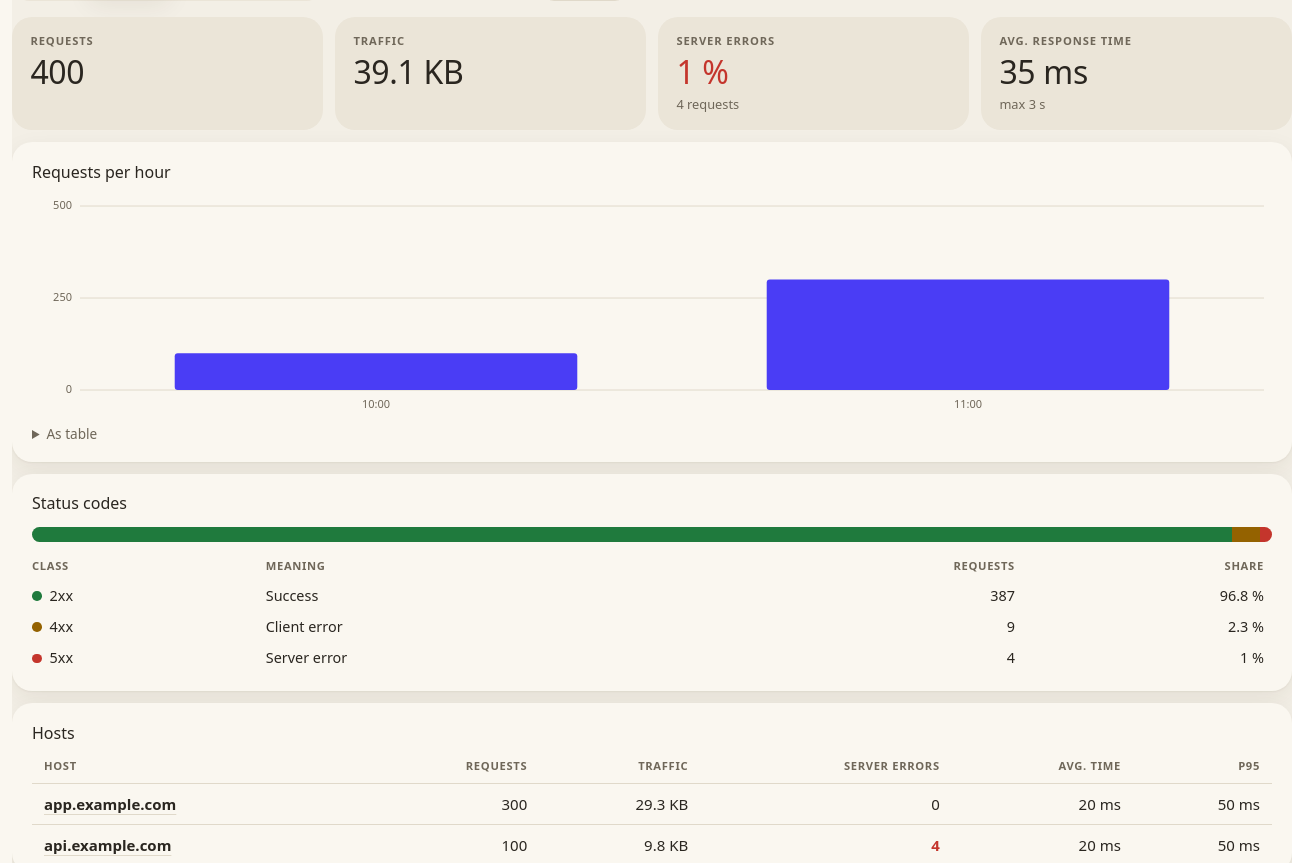
Test case: MetricsView host filter › takes the host whose name is clicked in the table, and drops it when it is clicked again
The image size is (1292, 863).
(page scrolled)
Check: the element "Requests" is shown, box [12,17,323,130]
Step 1. Click the button "api.example.com" → (108, 845), box [44,834,171,857]
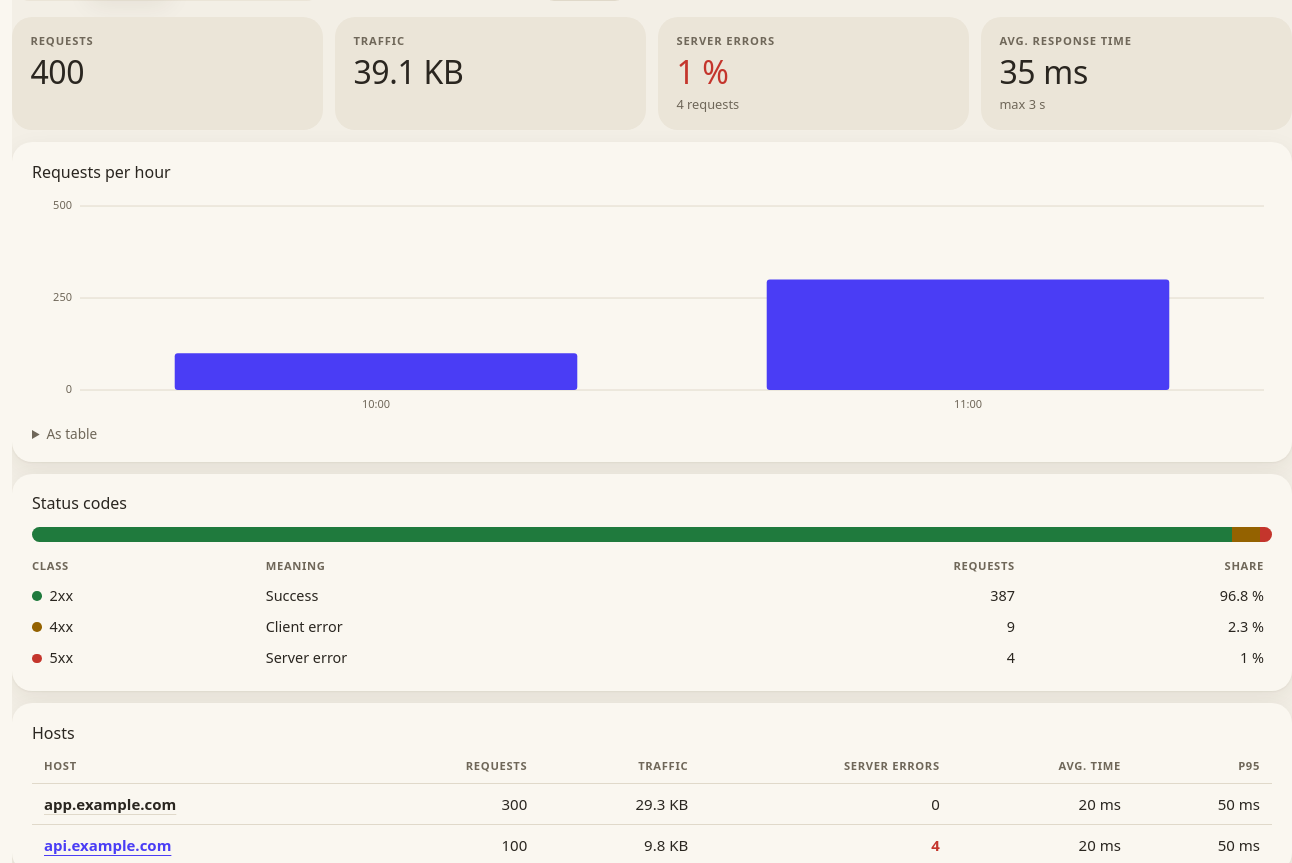
Check: the button "api.example.com" is pressed
Step 2. Click the button "api.example.com" → (108, 845), box [44,834,171,857]
(page scrolled)
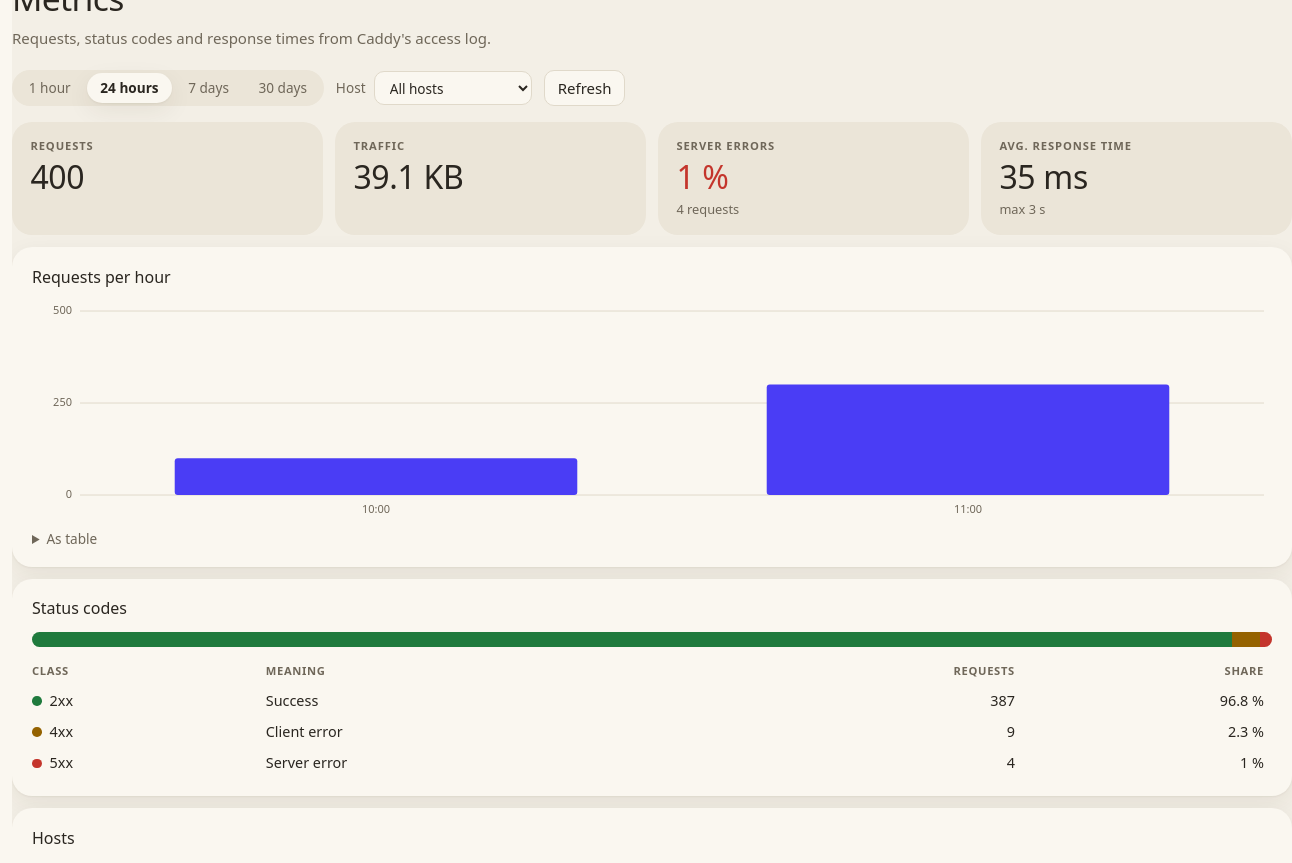
Check: the dropdown labelled "Host" shows "All hosts", box [374,71,532,105]
